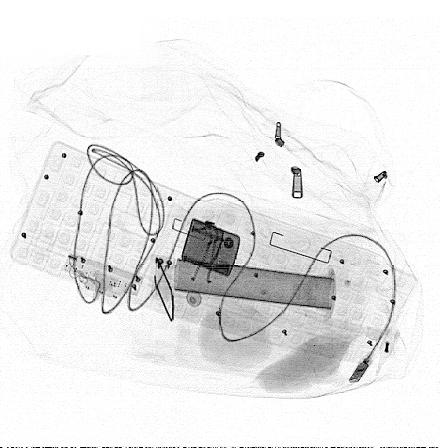Lighter: (181, 218, 240, 277)
